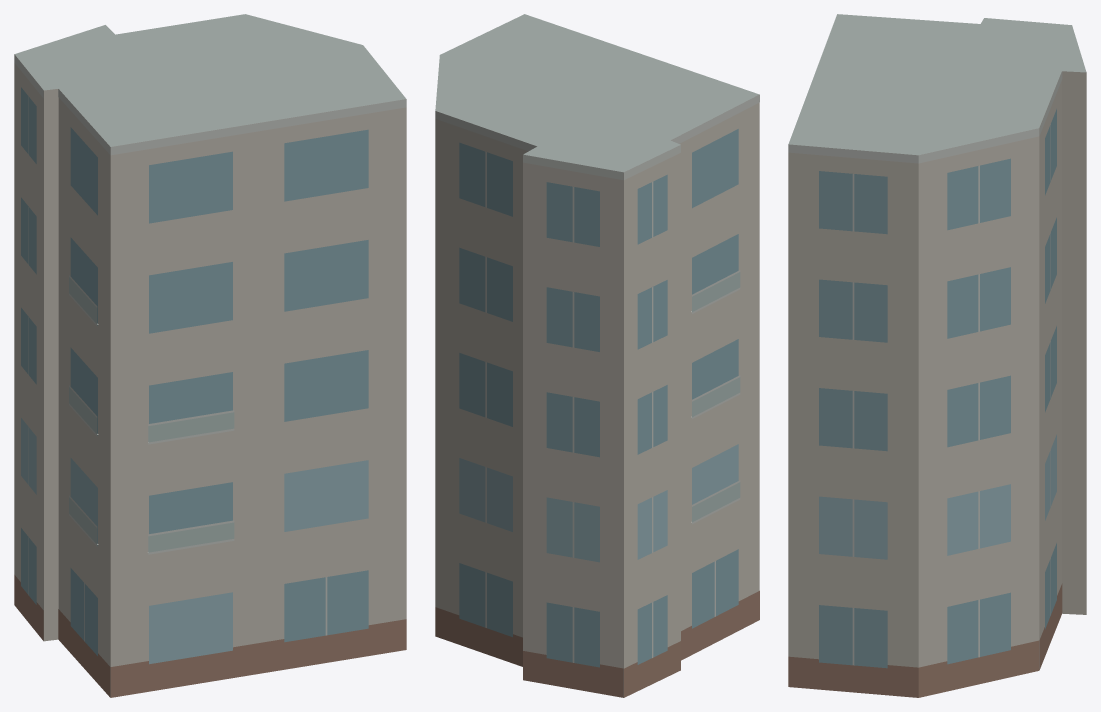
The model's file is survey-upis-32474633.glb.
3 views of the same model, side by side, from view 1: azimuth 30°, elevation 25°; view 2: azimuth 150°, elevation 25°; view 3: azimuth 270°, elevation 25° (orthographic). The views are drawn at different scales.
Visible parts, largest first — view 1: survey-upis-32474633.tmp; view 2: survey-upis-32474633.tmp; view 3: survey-upis-32474633.tmp.
Part boxes in pixels (x1,y1,x2,y2): survey-upis-32474633.tmp: (14,14,406,697); survey-upis-32474633.tmp: (435,14,759,697); survey-upis-32474633.tmp: (788,14,1086,697).
Size of the model in its own units: 9 by 16.1 by 8.03.
